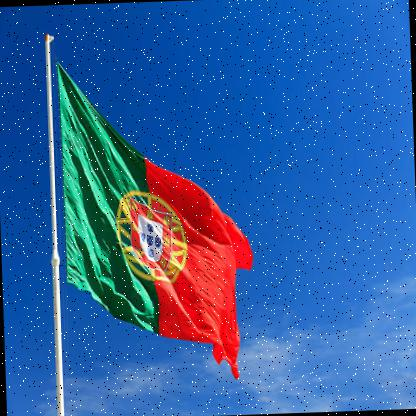pt: (55, 45, 260, 389)
